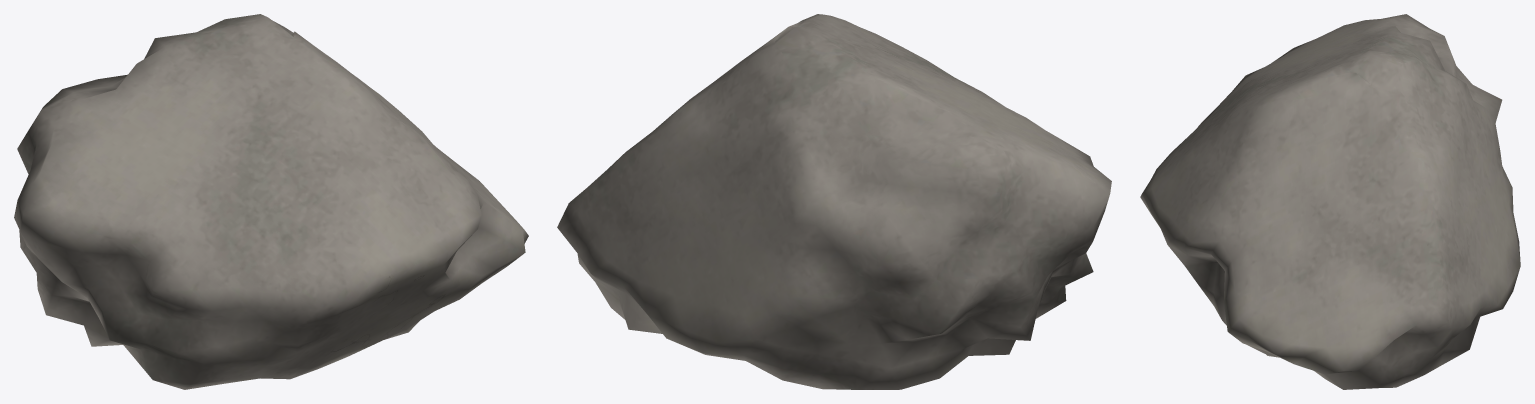
Rendered from boulder-granite.glb.
3 renders of one model, left to right at view 1: azimuth 30°, elevation 25°; view 2: azimuth 150°, elevation 25°; view 3: azimuth 270°, elevation 25°, orthographic. The views are drawn at different scales.
Visible parts, largest first — view 1: stone; view 2: stone; view 3: stone.
Boxes of the visible parts, x1=… form: stone: x1=14, y1=14, x2=528, y2=389; stone: x1=557, y1=14, x2=1111, y2=389; stone: x1=1140, y1=14, x2=1520, y2=389.
Size of the model in its own units: 1.47 by 0.8369 by 1.08.
Materials: 1 (1 with a texture image).
